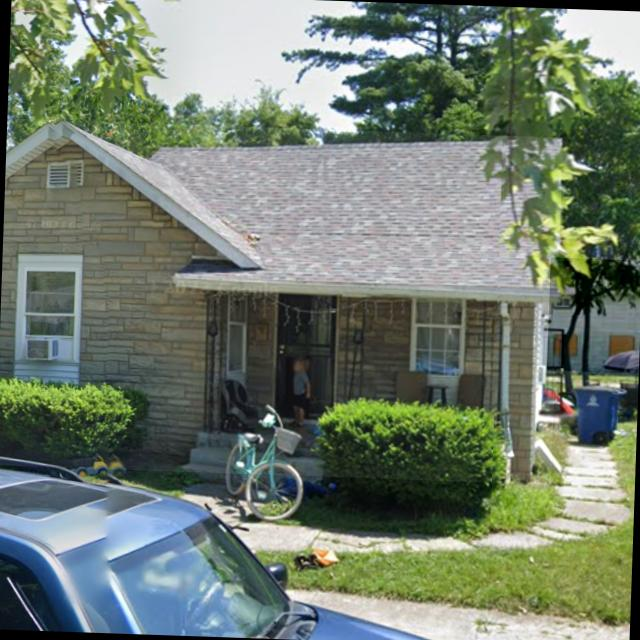House: (0, 118, 562, 484), (546, 257, 640, 373)
